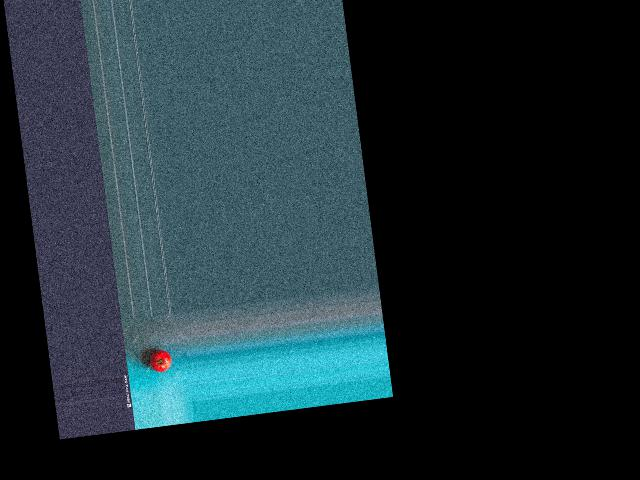tomato: (148, 349, 172, 372)
